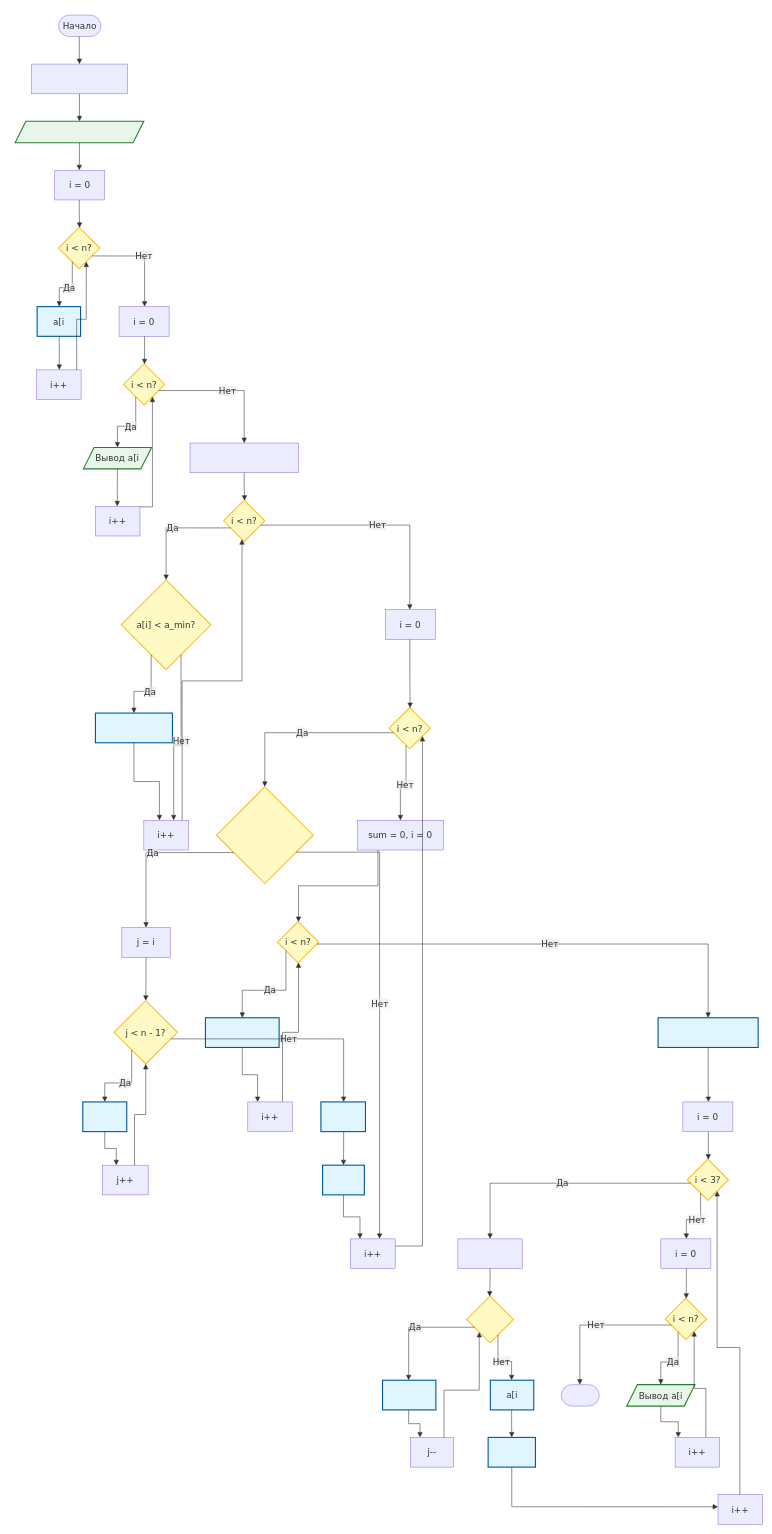
Some shapes in this 772 by 1534 pixel diagram are drawn without their labels. Each missing label, with the centre of its shape:
a[i] == a_min?: the point at 265,835
a[j: the point at 104,1116
a[j+1: the point at 409,1394
a_min = 1000, i = 0: the point at 243,457
a_min = a[i: the point at 134,727
i--: the point at 343,1179
j = n - 1: the point at 489,1253
j >= i?: the point at 490,1319
n++: the point at 511,1452
n--: the point at 343,1116
s_arfm = sum / n: the point at 707,1032
setlocale, srand: the point at 79,79
sum += a[i: the point at 242,1032
Ввод размера массива n: the point at 79,131
Конец: the point at 580,1395
